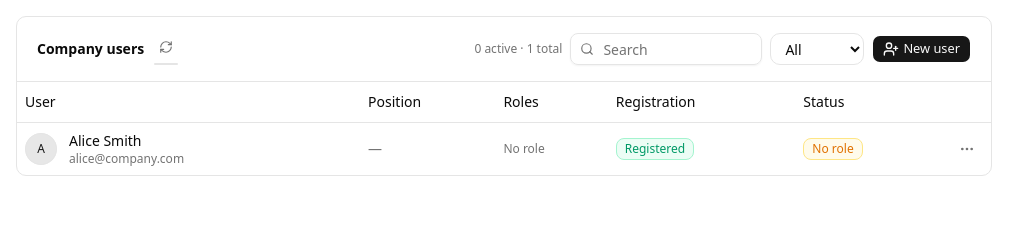
Scenario: CompanyUsersTable — self row actions › shows only Edit for the logged-in user's own row
Expected: the text "Alice Smith" is shown, top-left (69, 130), bottom-right (142, 150)
Step 1. Click the button named "Actions for Alice Smith" → (967, 148), box top-left (951, 132), bottom-right (983, 164)
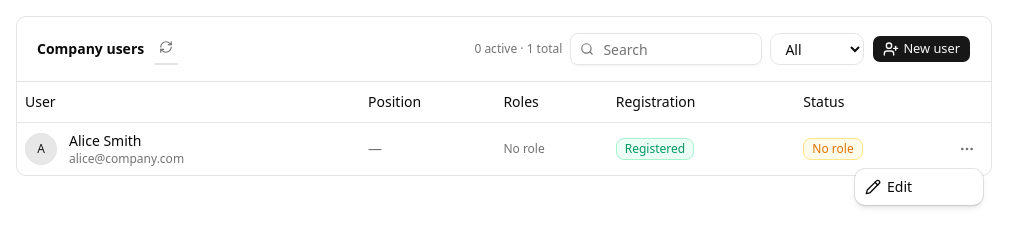
Now the menu item "Edit" is shown, box top-left (865, 177), bottom-right (912, 196)
